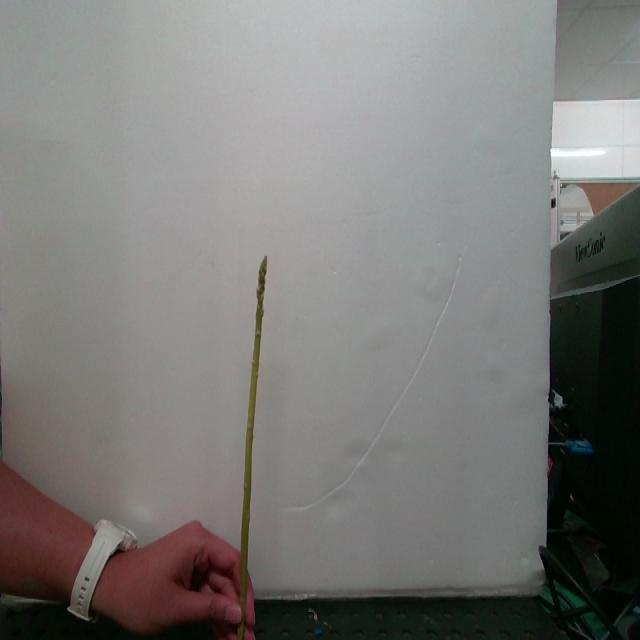aspargus: (239, 258, 270, 627)
